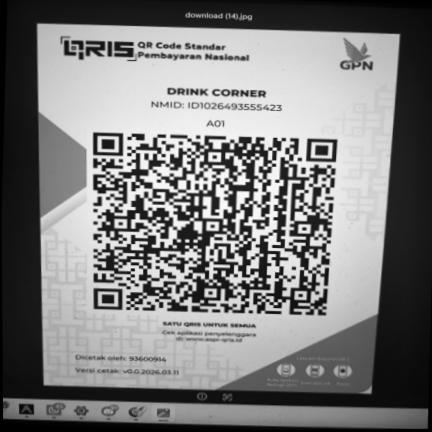Cara Pakai QRIS: (259, 353, 372, 394)
Cek Aplikasi Penyelenggara: (155, 328, 264, 347)
Dicetak Oleh: (69, 351, 172, 364)
Logo GPN: (335, 35, 380, 76)
Logo dan deskripsi QRIS: (52, 33, 260, 68)
Nama Merchant: (163, 84, 273, 99)
National Merchant ID: (148, 99, 288, 114)
QR Code: (78, 128, 341, 321)
Slogan: (155, 319, 264, 330)
Terminal ID: (203, 118, 228, 129)
Versi Cetak: (69, 365, 187, 378)
